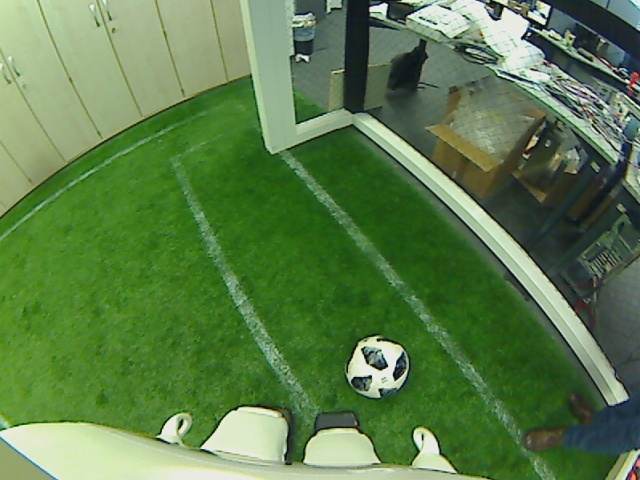ball: (343, 335, 411, 399)
